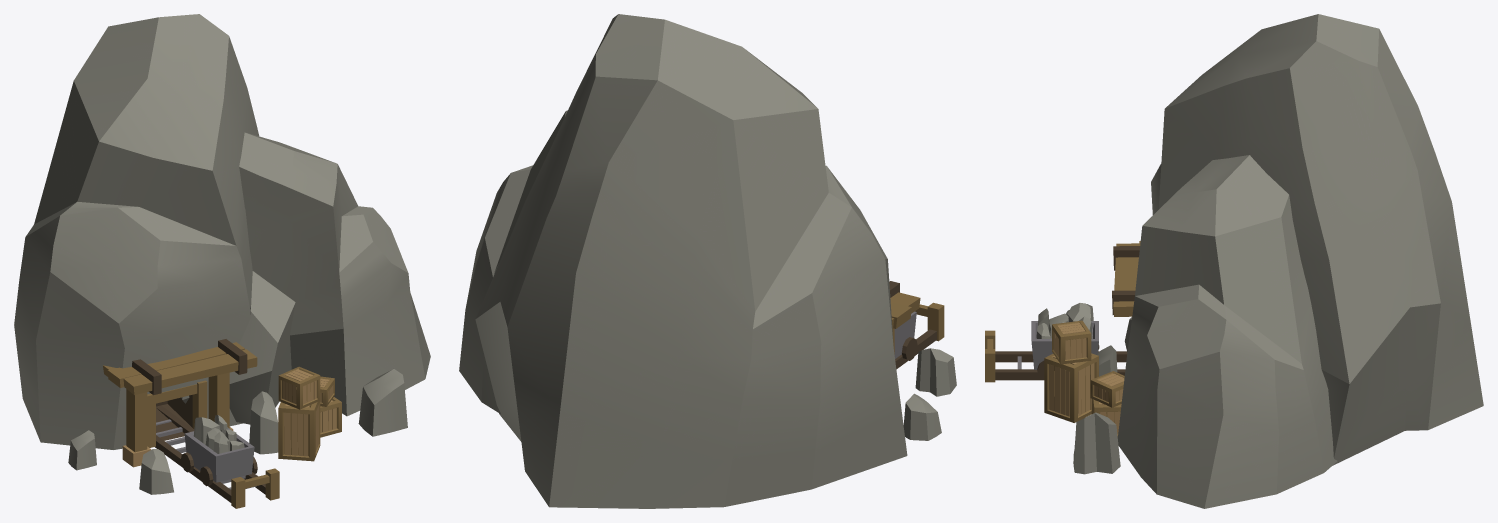
The model's file is mine.glb.
3 renders of one model, left to right at view 1: azimuth 30°, elevation 25°; view 2: azimuth 150°, elevation 25°; view 3: azimuth 270°, elevation 25°, orthographic. The views are drawn at different scales.
Visible parts, largest first — view 1: Mine; view 2: Mine; view 3: Mine.
Boxes of the visible parts, x1,y1,x2,y2 form: Mine: (14,14,430,508); Mine: (459,14,956,508); Mine: (985,14,1483,508).
Size of the model in its own units: 1.28 by 1.17 by 1.36.
Materials: 1 (1 with a texture image).
